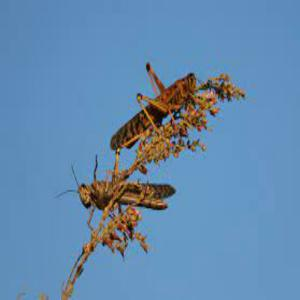locust: (103, 69, 202, 152), (69, 172, 176, 229)
